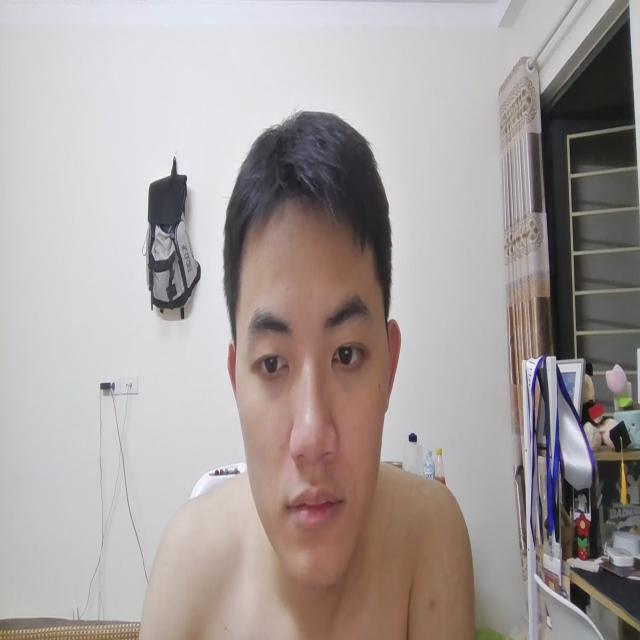student: (204, 99, 428, 622)
